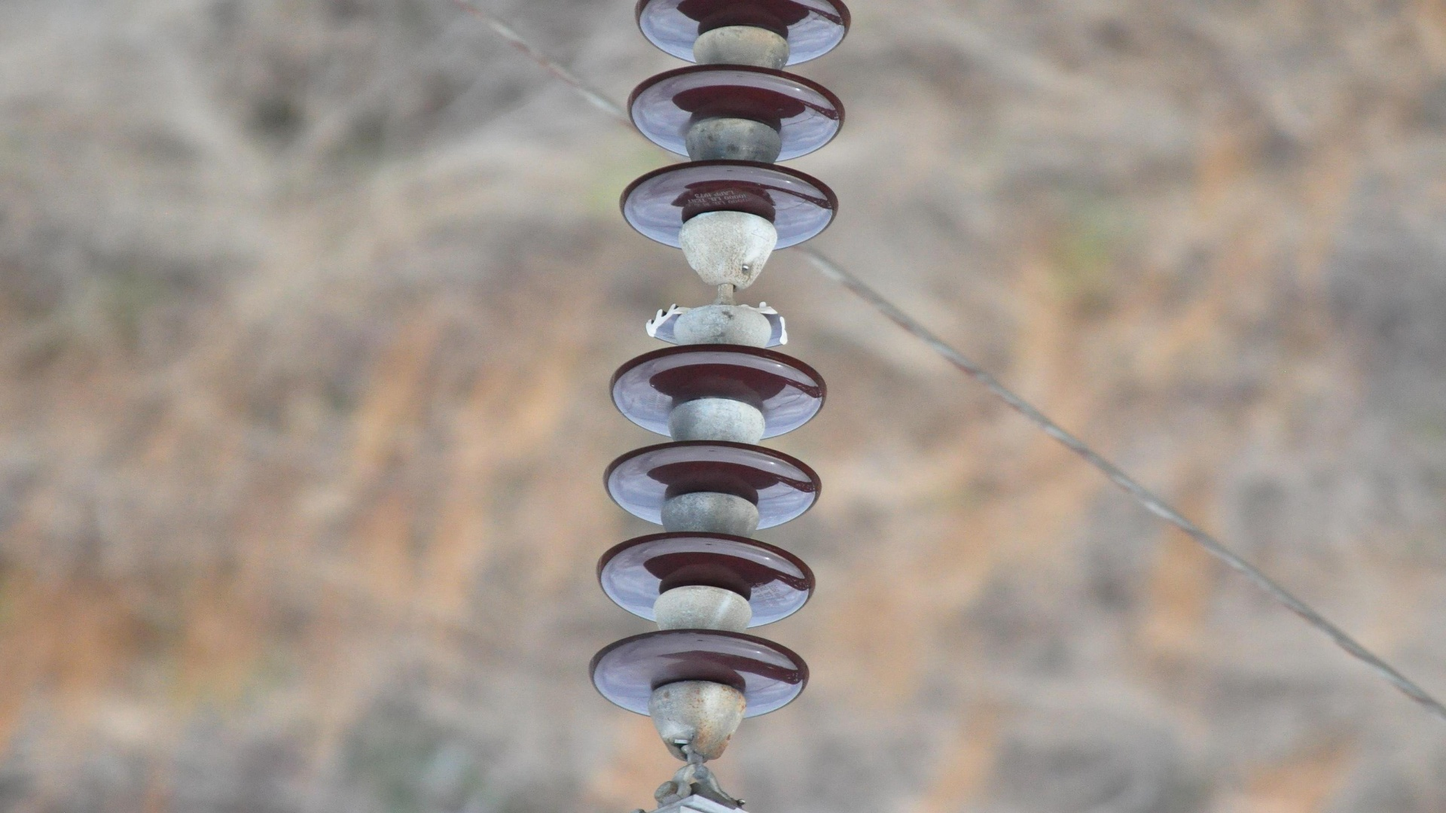insulator: (584, 336, 834, 725), (614, 1, 859, 259)
insulator_breakage: (639, 293, 800, 353)
